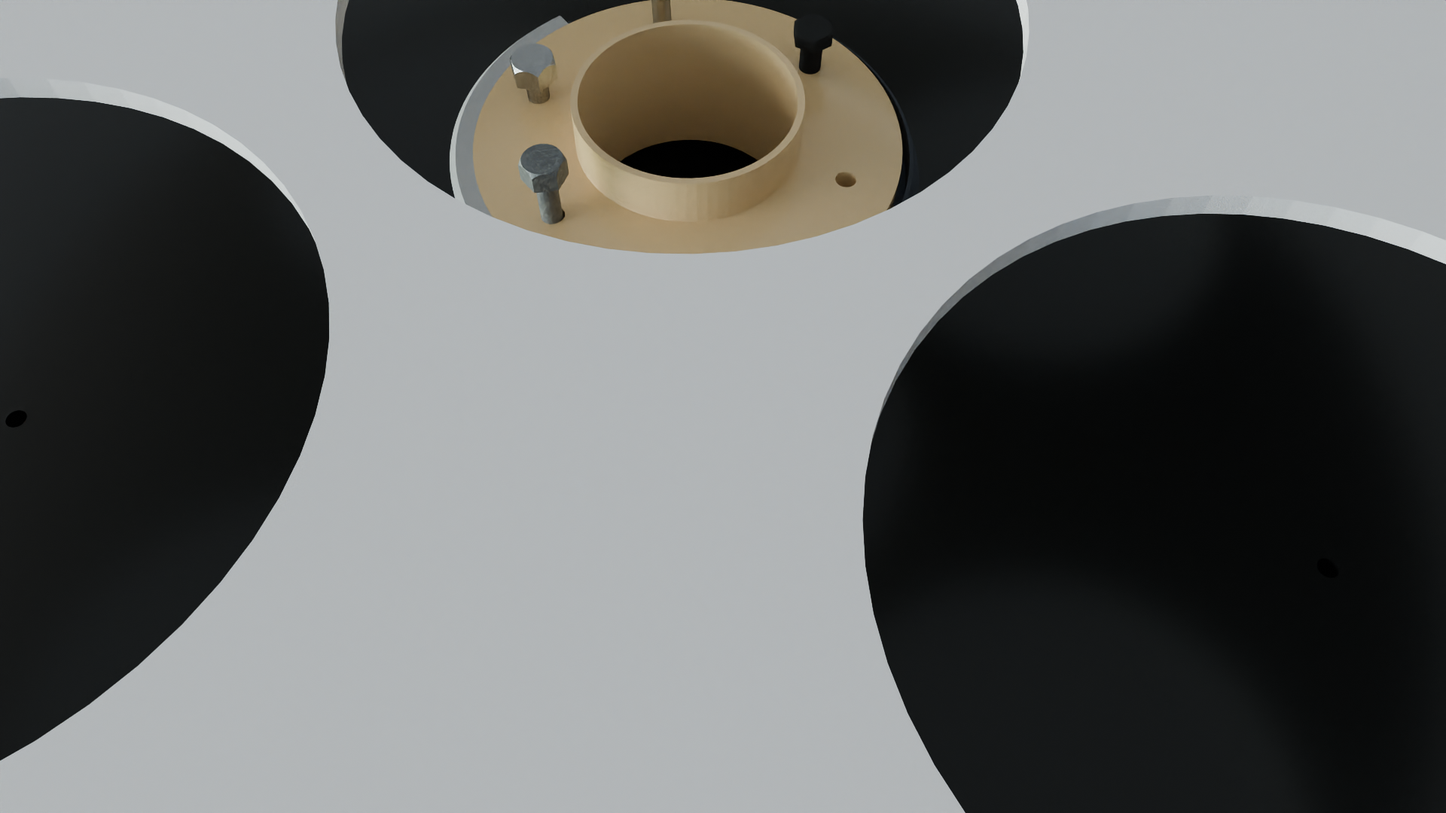bolt: (518, 144, 567, 179), (510, 44, 556, 78), (795, 14, 833, 42)
